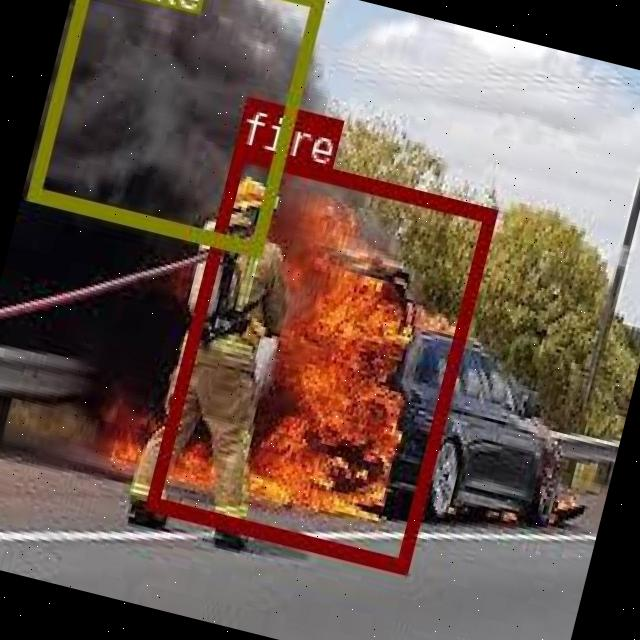fire: (144, 143, 496, 569)
smoke: (25, 0, 323, 254)
